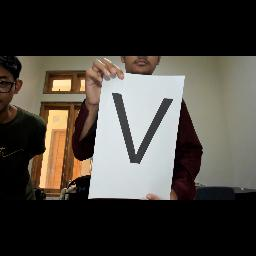v: (105, 89, 177, 165)
